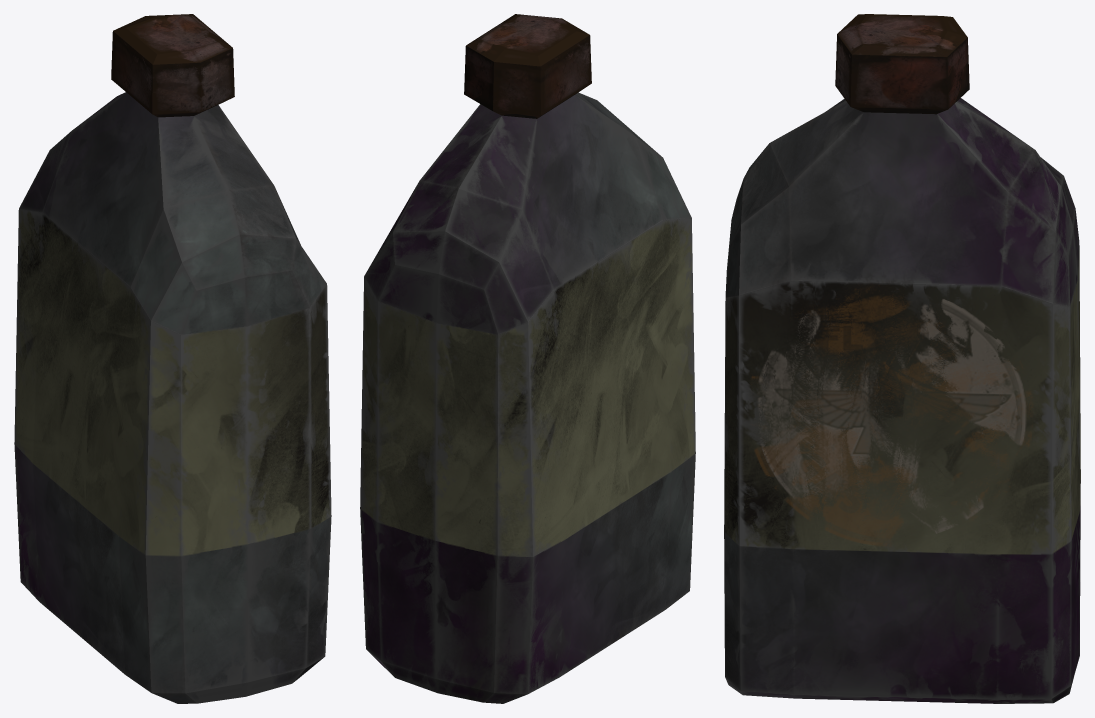
The model's file is Bottle_Medium_4_Purple.fbx.
The picture shows the model from 3 angles, left to right: view 1: azimuth 30°, elevation 25°; view 2: azimuth 150°, elevation 25°; view 3: azimuth 270°, elevation 25°; orthographic projection. The views are drawn at different scales.
Parts seen in each view (by area): view 1: Bottle_Medium_4_Purple; view 2: Bottle_Medium_4_Purple; view 3: Bottle_Medium_4_Purple.
Boxes of the visible parts, box(x1,y1,x2,y2) form: Bottle_Medium_4_Purple: box(14, 14, 331, 703); Bottle_Medium_4_Purple: box(360, 14, 695, 703); Bottle_Medium_4_Purple: box(724, 14, 1080, 703).
Size of the model in its own units: 20.06 by 59.04 by 29.56.
